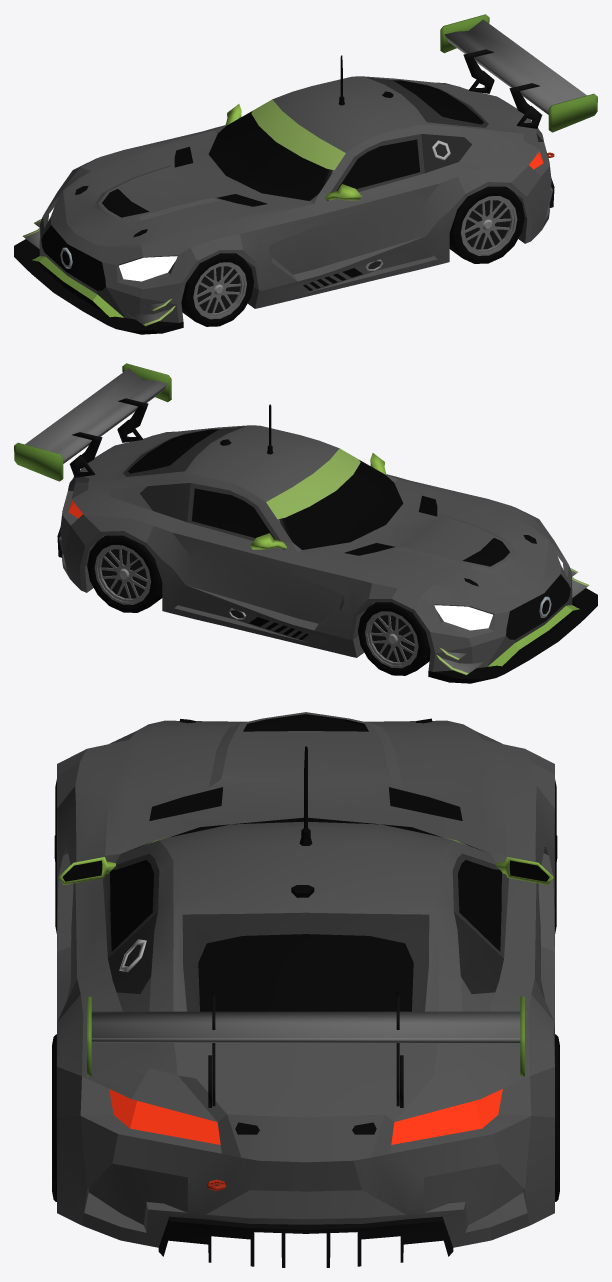
File: Tristar Racer.glb
3 renders of one model, top to bottom at view 1: azimuth 30°, elevation 25°; view 2: azimuth 150°, elevation 25°; view 3: azimuth 270°, elevation 25°, orthographic. The views are drawn at different scales.
Visible parts, largest first — view 1: amg Gt body, lrWheel.002, lfWheel.001; view 2: amg Gt body, rrWheel, rFWheel.001; view 3: amg Gt body, lrWheel.002, rrWheel.
Boxes of the visible parts, x1,y1,x2,y2 form: amg Gt body: [14, 14, 597, 334]; lrWheel.002: [449, 186, 524, 263]; lfWheel.001: [181, 253, 253, 326]; amg Gt body: [14, 363, 597, 683]; rrWheel: [87, 535, 162, 612]; rFWheel.001: [358, 602, 430, 675]; amg Gt body: [54, 712, 557, 1267]; lrWheel.002: [52, 1034, 56, 1201]; rrWheel: [555, 1034, 559, 1201].
Bounding box in the file's own units: 4.3 × 1.53 × 1.93.
Materials: 4 (3 with a texture image).
